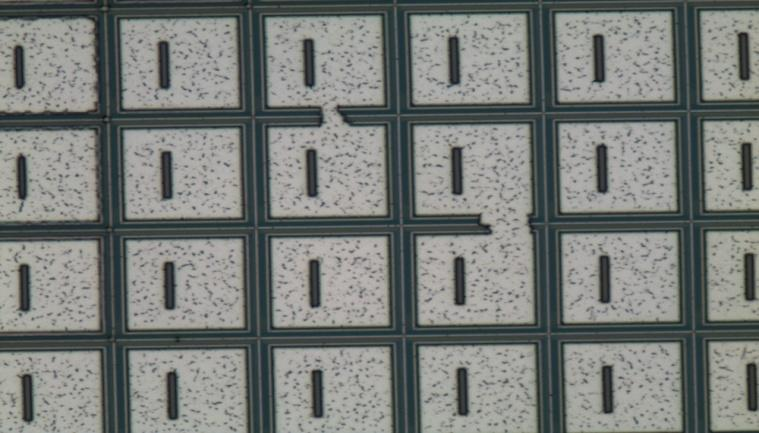BLOCK ETCH: (307, 94, 540, 259)
